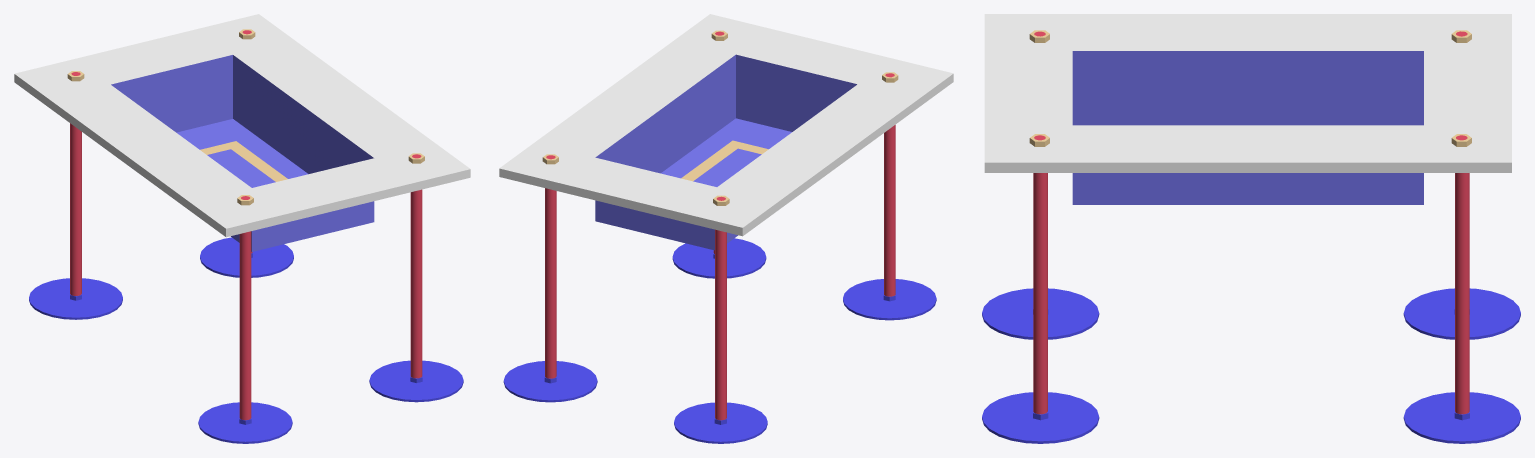
File: marker_target_o.dae
The picture shows the model from 3 angles, left to right: view 1: azimuth 30°, elevation 25°; view 2: azimuth 150°, elevation 25°; view 3: azimuth 270°, elevation 25°; orthographic projection. The views are drawn at different scales.
Visible parts, largest first — view 1: instance_10, instance_10_001, instance_4_004, instance_4_001, instance_4_010, instance_5, instance_5_001, instance_4_007, instance_5_003, instance_10_003, instance_10_002; view 2: instance_10, instance_10_001, instance_4_004, instance_4_007, instance_4_010, instance_4_001, instance_5_003, instance_5_002, instance_5_001, instance_10_003, instance_10_002; view 3: instance_10, instance_10_001, instance_4_007, instance_4_001, instance_4_004, instance_4_010, instance_5_002, instance_5.
Boxes of the visible parts, x1=… form: instance_10: x1=14, y1=14, x2=470, y2=237; instance_10_001: x1=111, y1=55, x2=374, y2=251; instance_4_004: x1=198, y1=402, x2=292, y2=443; instance_4_001: x1=369, y1=360, x2=463, y2=402; instance_4_010: x1=29, y1=278, x2=122, y2=319; instance_5: x1=410, y1=189, x2=422, y2=378; instance_5_001: x1=239, y1=231, x2=251, y2=420; instance_4_007: x1=200, y1=237, x2=293, y2=277; instance_5_003: x1=70, y1=123, x2=81, y2=295; instance_10_003: x1=207, y1=149, x2=275, y2=187; instance_10_002: x1=200, y1=141, x2=287, y2=181; instance_10: x1=499, y1=14, x2=953, y2=236; instance_10_001: x1=595, y1=54, x2=856, y2=250; instance_4_004: x1=843, y1=279, x2=936, y2=320; instance_4_007: x1=503, y1=361, x2=597, y2=402; instance_4_010: x1=674, y1=402, x2=767, y2=443; instance_4_001: x1=672, y1=238, x2=766, y2=278; instance_5_003: x1=715, y1=229, x2=726, y2=420; instance_5_002: x1=545, y1=188, x2=556, y2=378; instance_5_001: x1=884, y1=125, x2=895, y2=296; instance_10_003: x1=693, y1=148, x2=761, y2=186; instance_10_002: x1=681, y1=140, x2=768, y2=181; instance_10: x1=984, y1=14, x2=1511, y2=172; instance_10_001: x1=1072, y1=51, x2=1423, y2=204; instance_4_007: x1=1403, y1=392, x2=1520, y2=443; instance_4_001: x1=982, y1=392, x2=1099, y2=443; instance_4_004: x1=982, y1=288, x2=1099, y2=339; instance_4_010: x1=1403, y1=288, x2=1520, y2=339; instance_5_002: x1=1455, y1=173, x2=1469, y2=414; instance_5: x1=1033, y1=173, x2=1047, y2=414.
Bounding box in the file's own units: 0.6221 × 0.9201 × 0.53.
